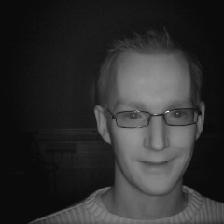happy: (76, 21, 216, 202)
